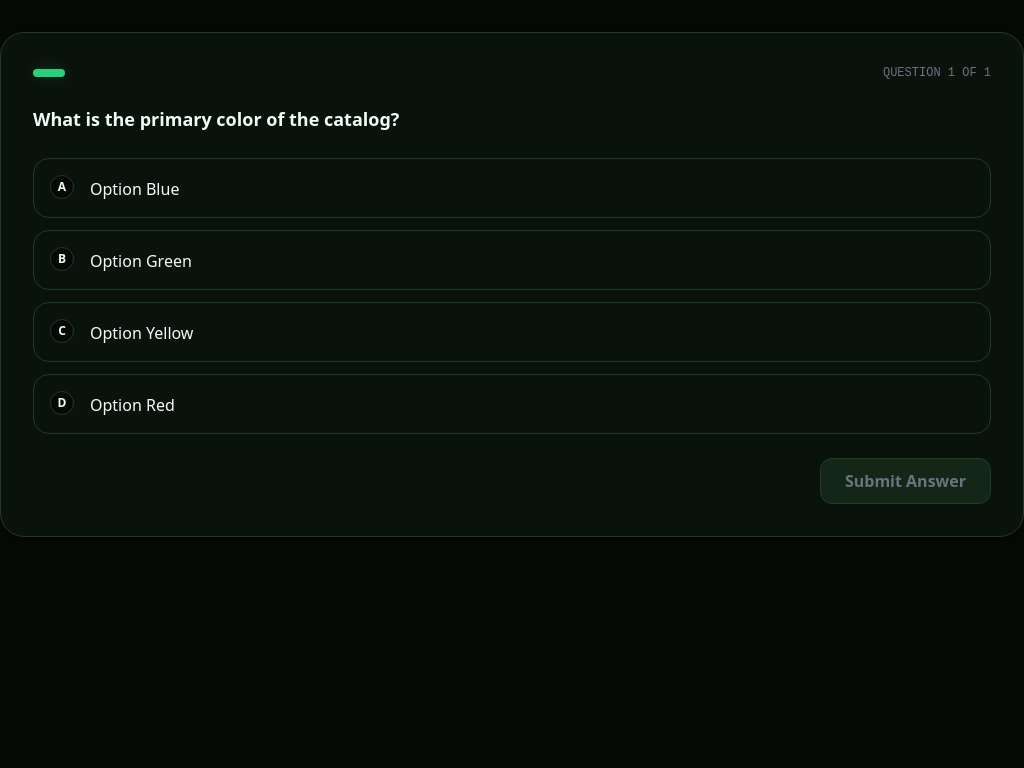
InteractiveQuiz Component › handles correct answer selection and passes the quiz
Select correct option 'Option Green'
Click the button "B Option Green" at (141, 261), box [33,230,991,290]
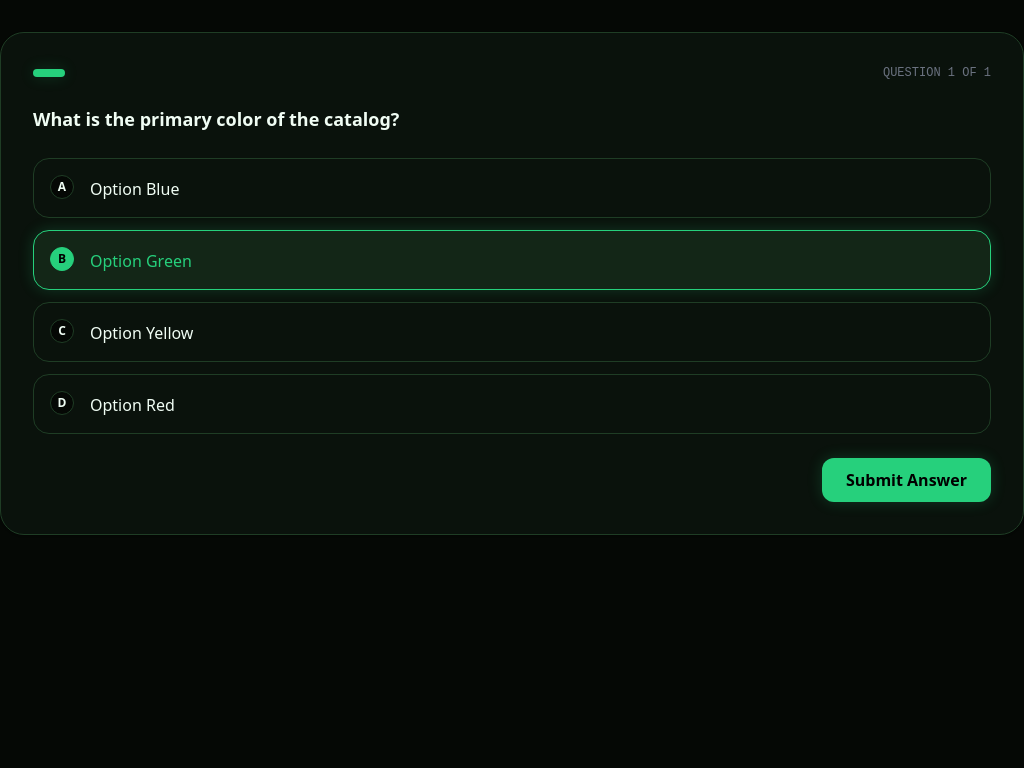
Click the button "Submit Answer" at (906, 480), box [822,458,991,502]
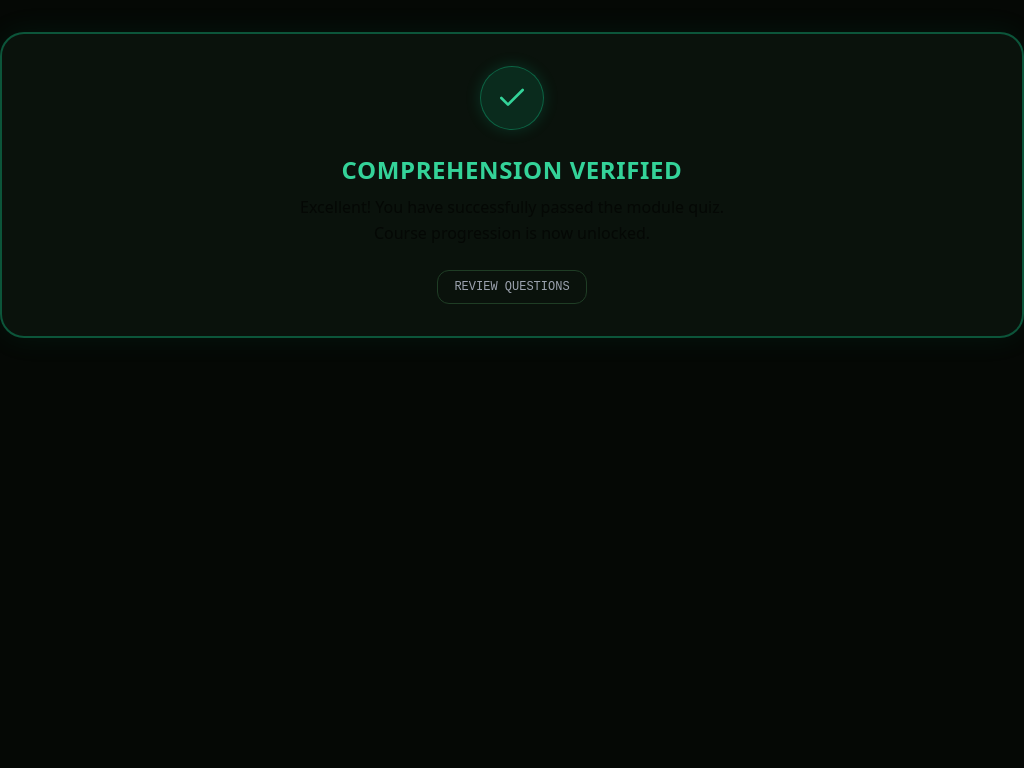
Now the heading "Comprehension Verified" is shown, box [342,153,682,186]
